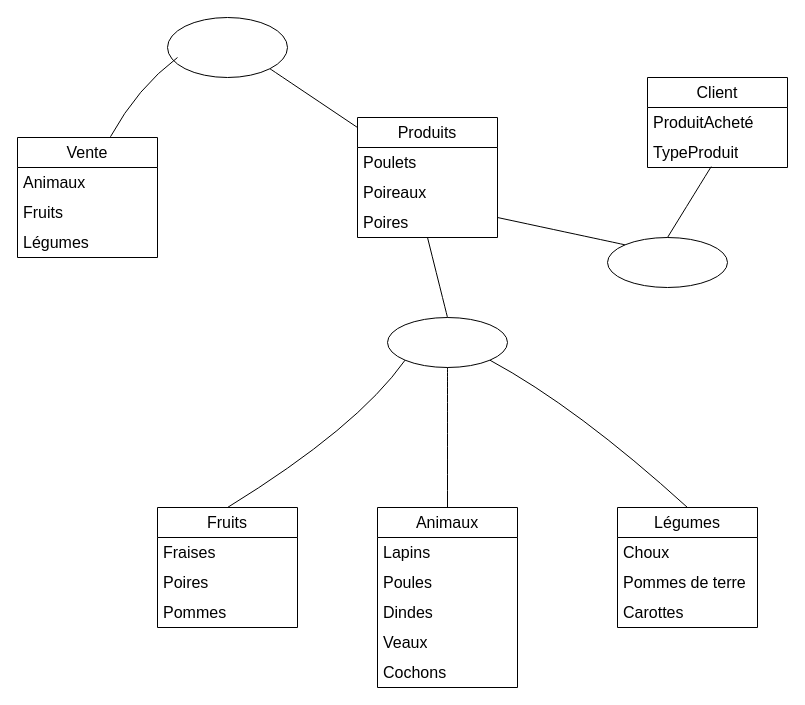
This 805x705 diagram has some shape labels left out. The centre of each missing label's shape, as x and y in pixels:
Pesé: (447,342)
Type: (227,47)
Vendu: (667,262)
